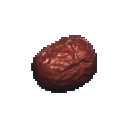gd: (24, 28, 112, 121)
